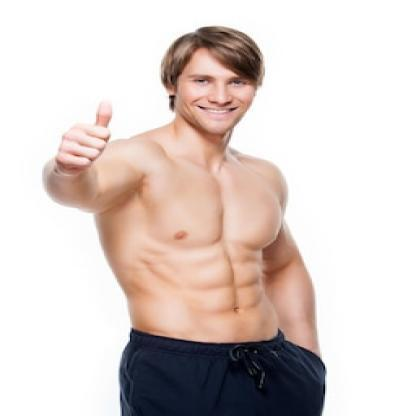thumb_up: (54, 100, 116, 175)
